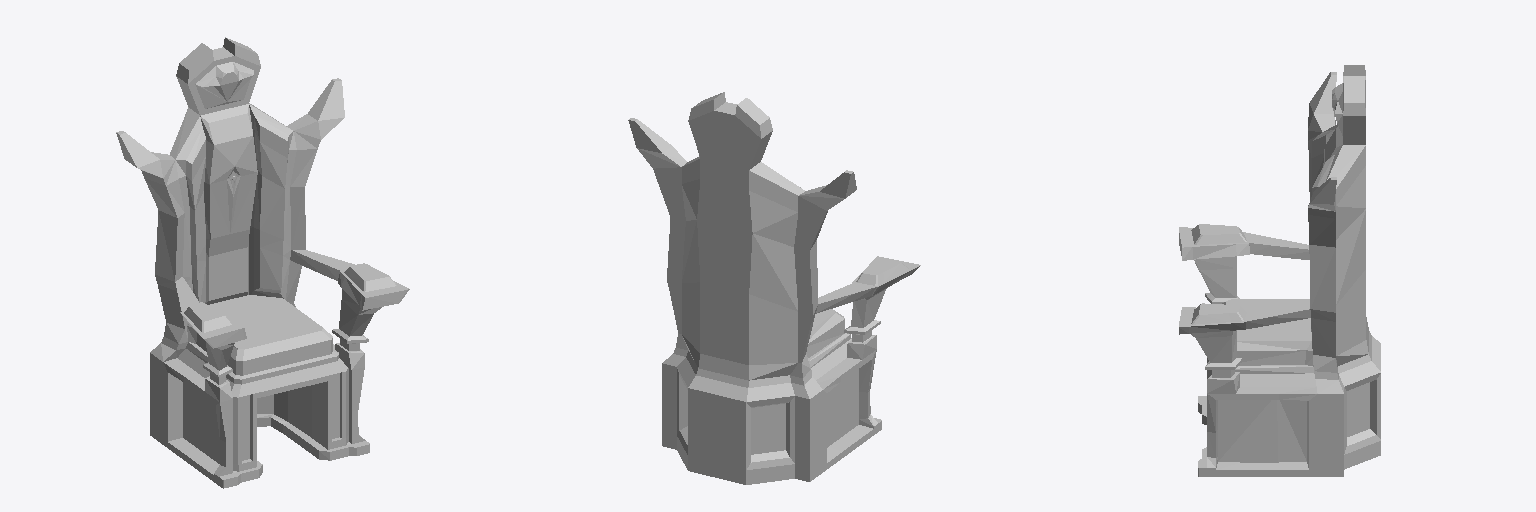
Rendered from Throne.obj.
3 views of the same model, side by side, from view 1: azimuth 30°, elevation 25°; view 2: azimuth 150°, elevation 25°; view 3: azimuth 270°, elevation 25° (orthographic).
Visible parts, largest first — view 1: default; view 2: default; view 3: default.
Part boxes in pixels (left/top/right/bottom): default: left=116, top=37, right=409, bottom=488; default: left=628, top=92, right=920, bottom=484; default: left=1179, top=65, right=1380, bottom=476.
Bounding box in the file's own units: 4.71 × 7.47 × 3.71.